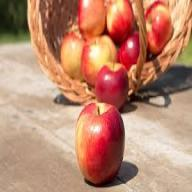apple: (74, 106, 128, 186), (91, 64, 128, 110), (142, 3, 176, 48), (81, 36, 115, 76), (118, 32, 150, 71), (104, 3, 136, 38), (59, 34, 84, 78)
